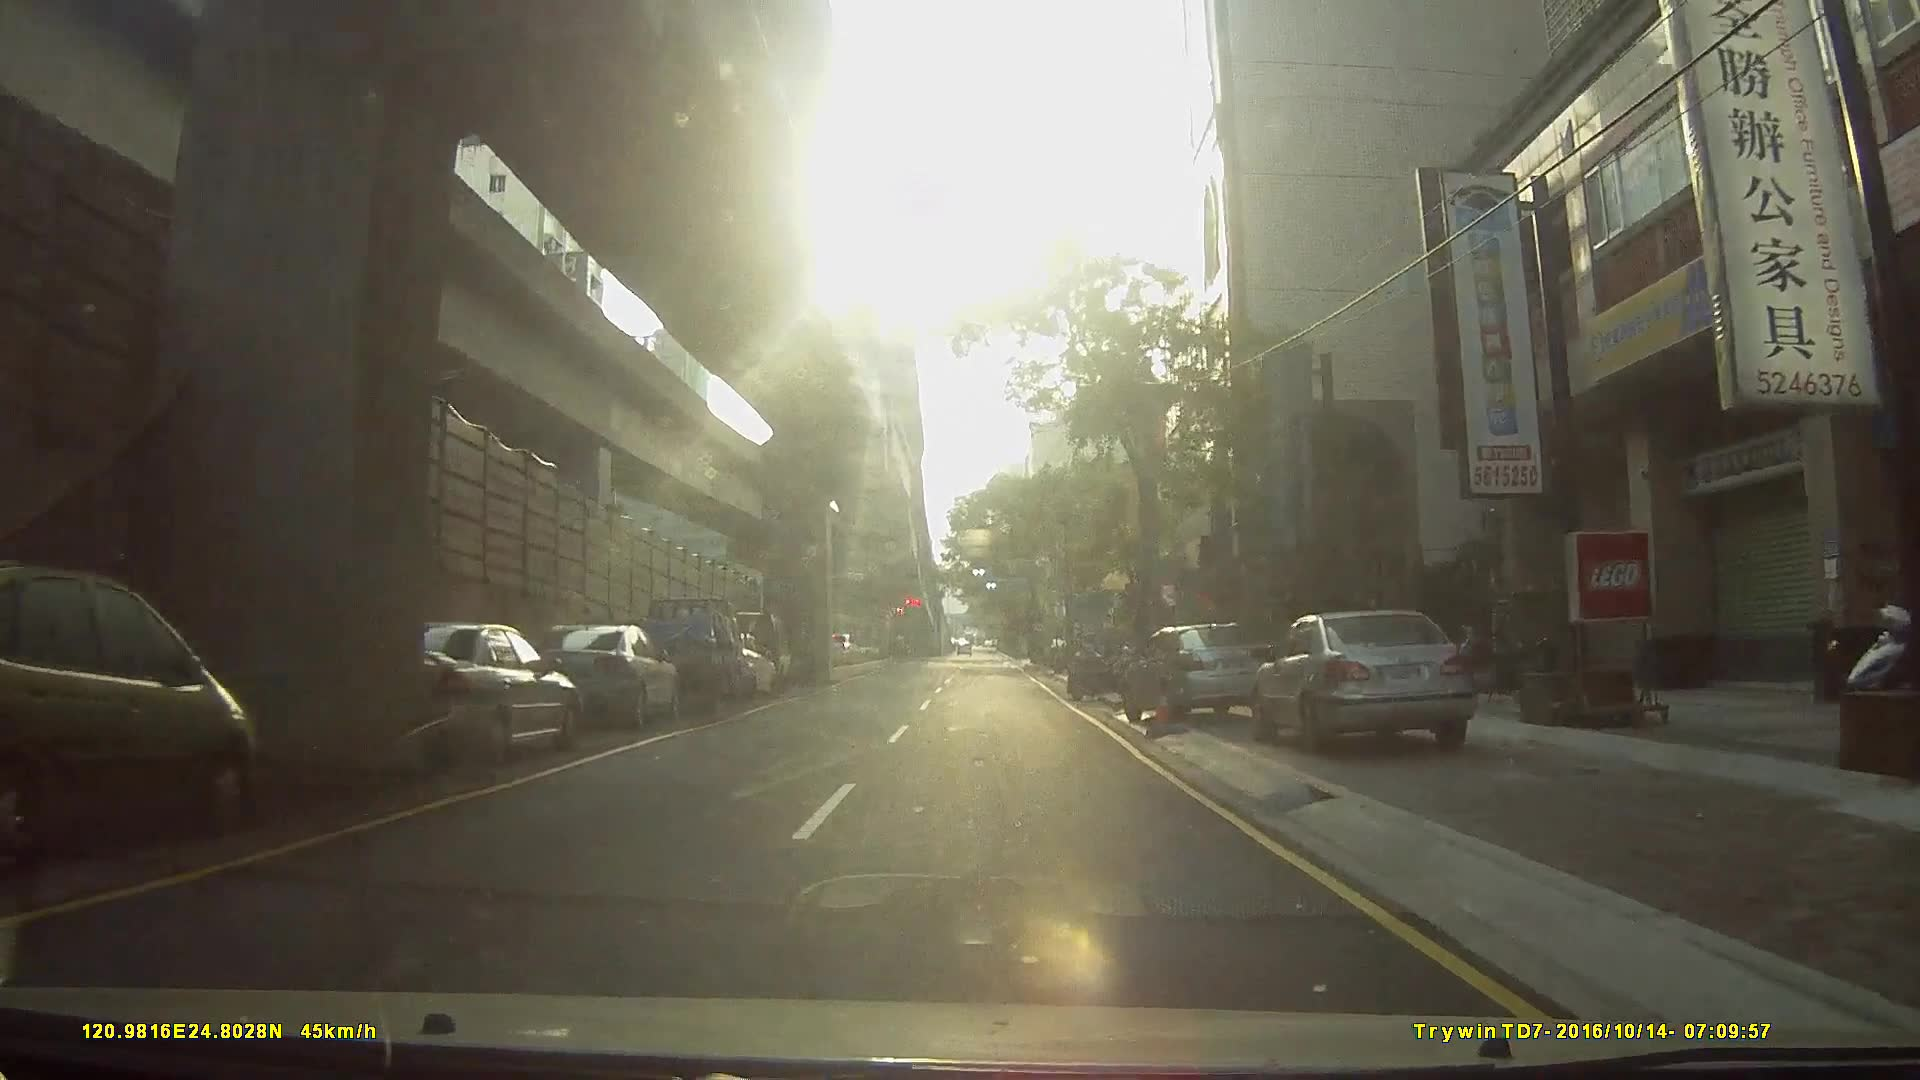rider: (1067, 628, 1128, 699)
vehicle: (1, 554, 279, 859), (1254, 605, 1488, 754), (363, 619, 574, 770), (514, 620, 679, 730), (1123, 619, 1285, 728), (618, 592, 744, 715)
